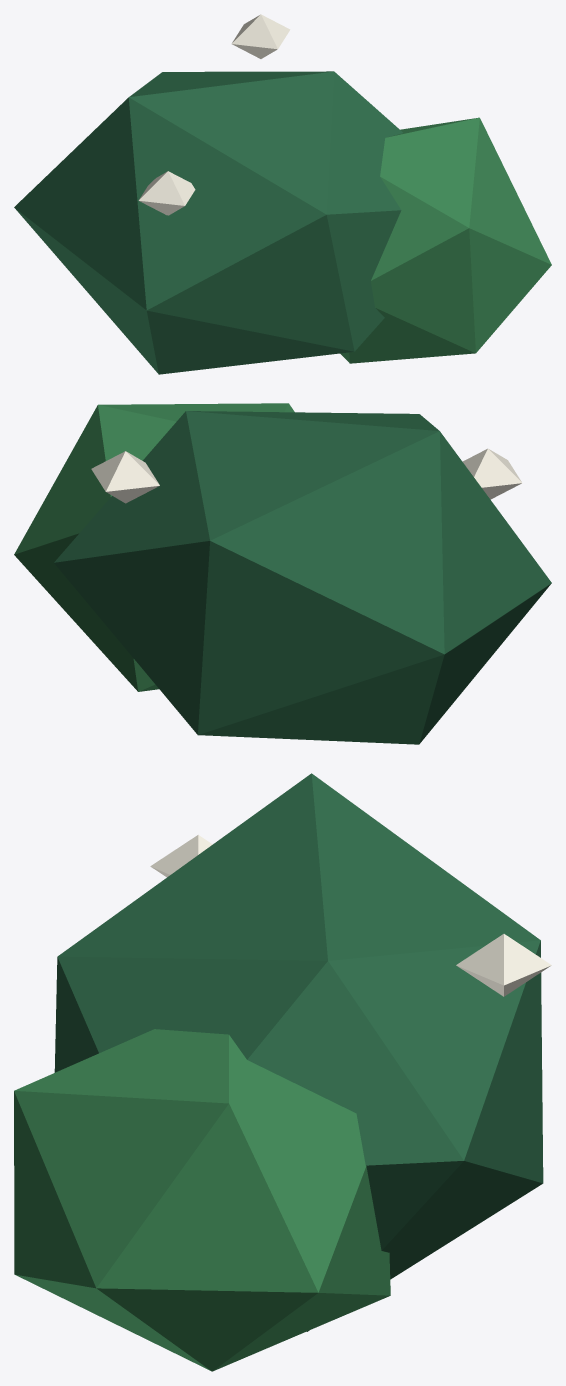
Rendered from world_bush_b.obj.
3 views of the same model, one above another, from view 1: azimuth 30°, elevation 25°; view 2: azimuth 150°, elevation 25°; view 3: azimuth 270°, elevation 25° (orthographic). The views are drawn at different scales.
Visible parts, largest first — view 1: world_bush_b; view 2: world_bush_b; view 3: world_bush_b.
Part boxes in pixels (box(x1,y1,x2,y2)): world_bush_b: box(14, 14, 551, 374); world_bush_b: box(14, 403, 551, 744); world_bush_b: box(14, 773, 551, 1371).
Size of the model in its own units: 3.14 by 2.04 by 2.46.
